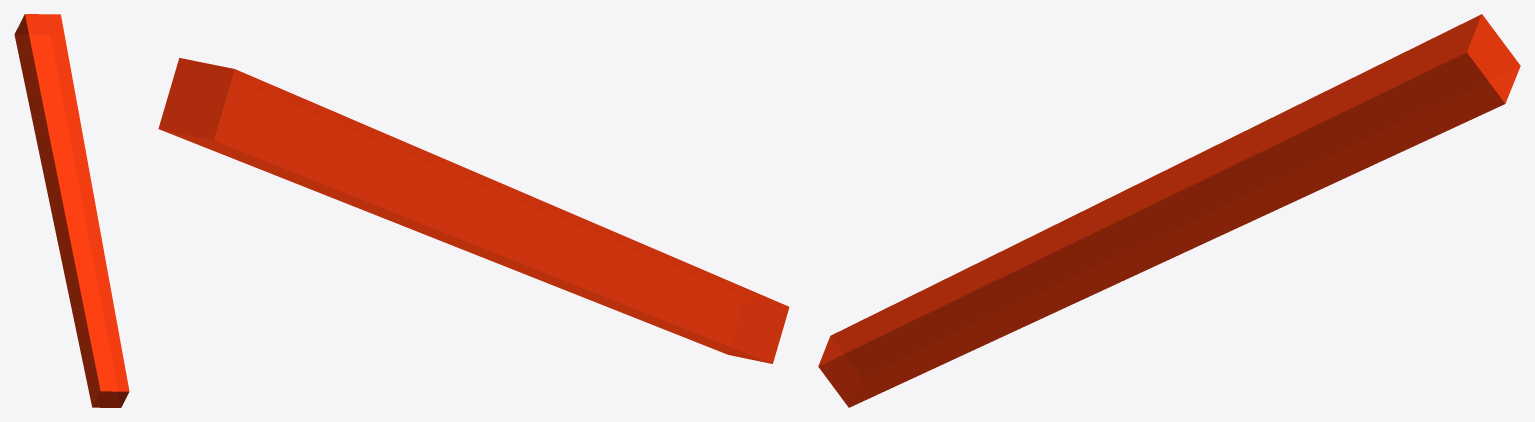
Rendered from Event_421115418_EBrechit_23.fbx.
3 renders of one model, left to right at view 1: azimuth 30°, elevation 25°; view 2: azimuth 150°, elevation 25°; view 3: azimuth 270°, elevation 25°, orthographic. The views are drawn at different scales.
Visible parts, largest first — view 1: Model; view 2: Model; view 3: Model.
Part boxes in pixels (<box>): Model: <box>14,14,129,407</box>; Model: <box>158,58,789,363</box>; Model: <box>818,14,1520,407</box>.
Size of the model in its own units: 0.2845 by 0.5123 by 0.7064.
